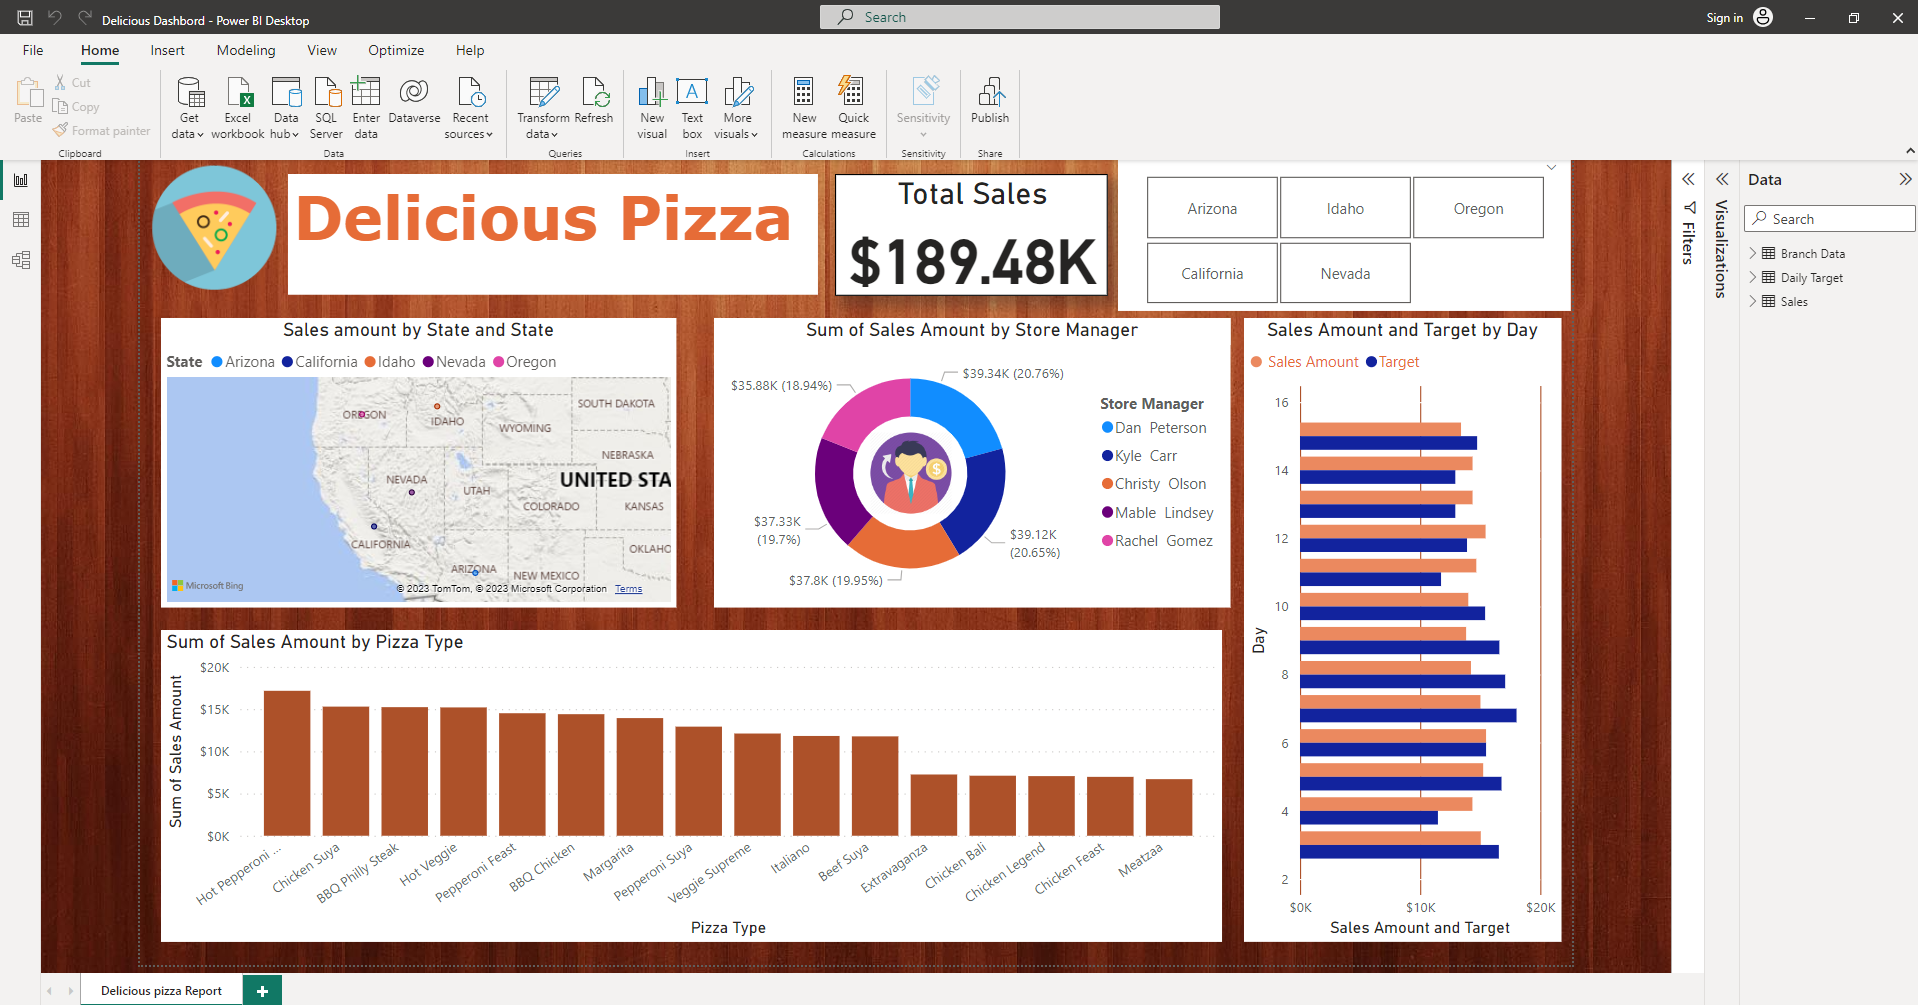

What the dashboard file says about the page in this screenshot:
{"tool":"powerbi","page":{"name":"Delicious pizza Report","canvas":[1280,720],"ordinal":0},"visuals":[{"type":"image","box":[0,0,132,121],"z":0},{"type":"textbox","box":[132.4,12.5,474,108.2],"z":1000},{"type":"card","title":"Total  Sales","fields":{"Values":["Sales.Sales Amount"]},"box":[621.6,12.5,244.2,109.1],"z":2000},{"type":"map","title":"Sales amount by State and State","fields":{"Category":["Branch Data.State"],"Series":["Branch Data.State"]},"box":[18.8,141.3,460.6,259.4],"z":3000},{"type":"donutChart","fields":{"Category":["Branch Data.Store Manager"],"Y":["Sales.Sales Amount"]},"box":[513.4,141.3,461.5,259.4],"z":4000},{"type":"image","box":[647.6,237,84.1,85],"z":5000},{"type":"slicer","title":"States","fields":{"Values":["Branch Data.State"]},"box":[874.7,0,405.2,135.1],"z":6000},{"type":"clusteredBarChart","title":"Sales Amount and Target by Day","fields":{"Category":["Daily Target.Day.Variation.Date Hierarchy.Day"],"Y":["Sales.Sales Amount","Daily Target.Target"]},"box":[987.4,141.3,283.5,558.1],"z":7000},{"type":"clusteredColumnChart","fields":{"Y":["Sales.Sales Amount"],"Category":["Sales.Pizza Type"]},"box":[18.8,420.4,949,279.1],"z":8000}]}

Visuals, with their boxes on the page's 1280x720 design canvas (x1, y1, x2, y2). These are canvas units, not pixel positions in the 1918x1005 screenshot, which may show the page scaled, cropped or inside an application window:
image: [0, 0, 132, 121]
textbox: [132, 12, 606, 121]
"Total  Sales" card: [622, 12, 866, 122]
"Sales amount by State and State" map: [19, 141, 479, 401]
donutChart - Branch Data.Store Manager x Sales.Sales Amount: [513, 141, 975, 401]
image: [648, 237, 732, 322]
"States" slicer: [875, 0, 1280, 135]
"Sales Amount and Target by Day" clusteredBarChart: [987, 141, 1271, 699]
clusteredColumnChart - Sales.Sales Amount x Sales.Pizza Type: [19, 420, 968, 700]
